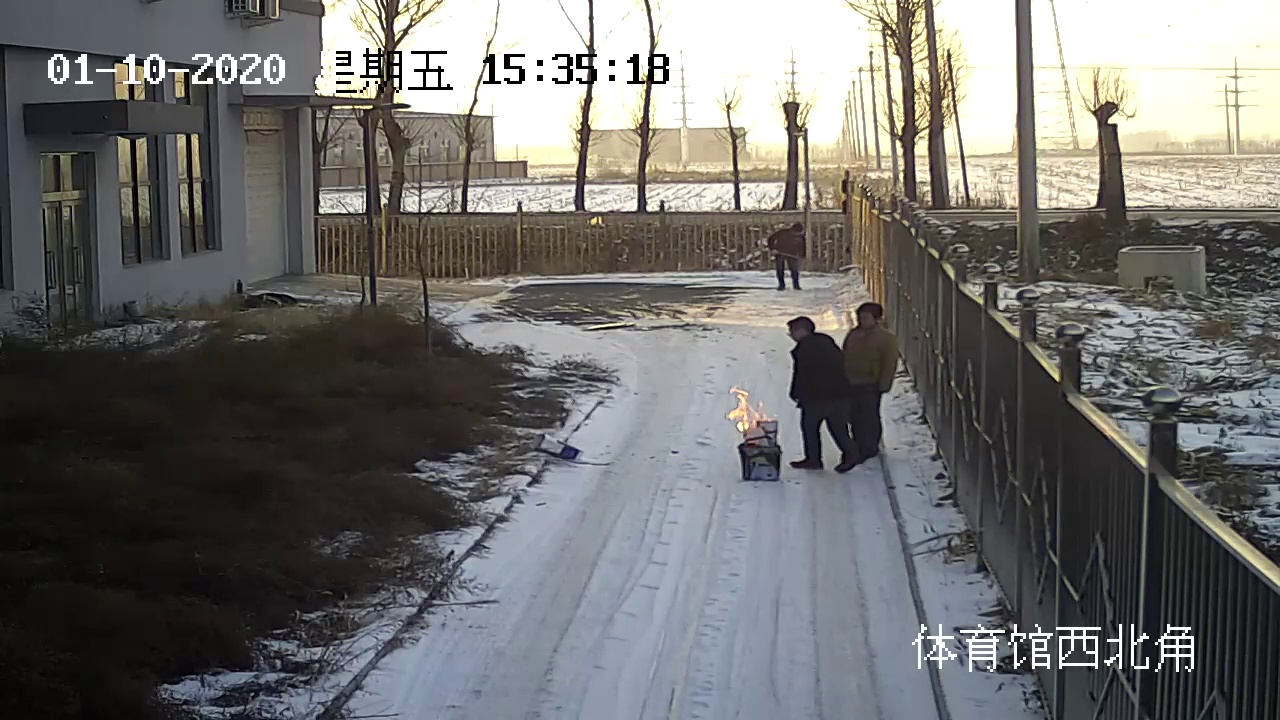fire: (728, 391, 768, 431)
